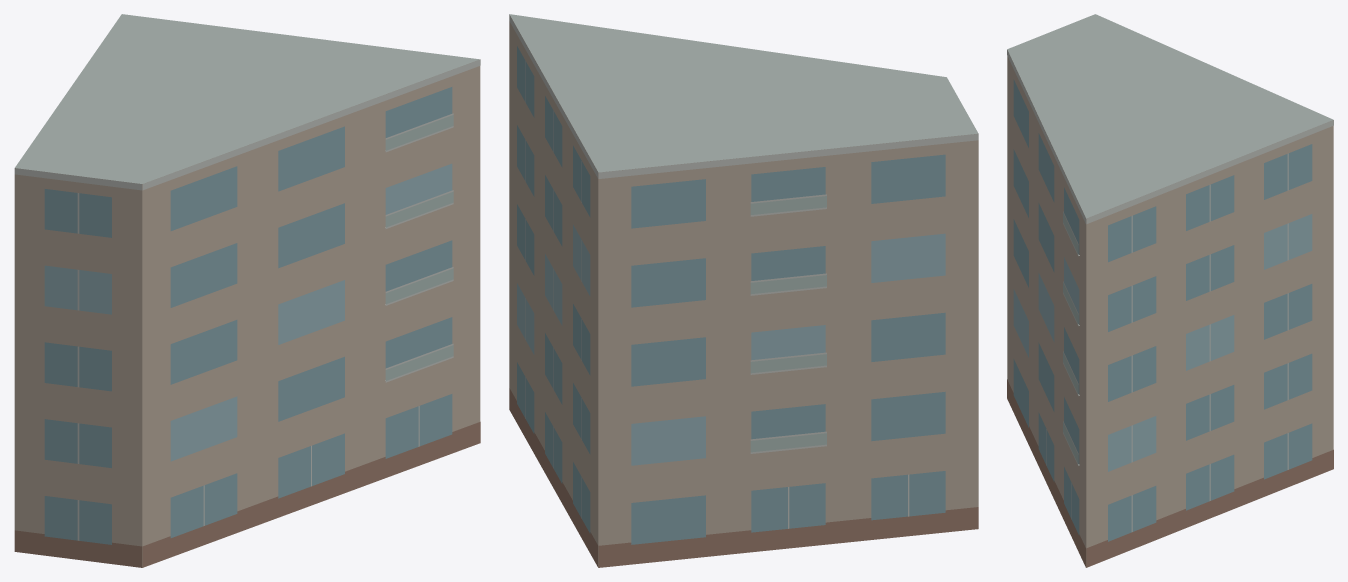
File: survey-upis-32967782.glb
3 views of the same model, side by side, from view 1: azimuth 30°, elevation 25°; view 2: azimuth 150°, elevation 25°; view 3: azimuth 270°, elevation 25° (orthographic). The views are drawn at different scales.
Visible parts, largest first — view 1: survey-upis-32967782.tmp; view 2: survey-upis-32967782.tmp; view 3: survey-upis-32967782.tmp.
Boxes of the visible parts, x1,y1,x2,y2 form: survey-upis-32967782.tmp: [14, 14, 480, 567]; survey-upis-32967782.tmp: [509, 14, 978, 567]; survey-upis-32967782.tmp: [1007, 14, 1333, 567].
Bounding box in the file's own units: 18.35 × 14.6 × 12.38.
